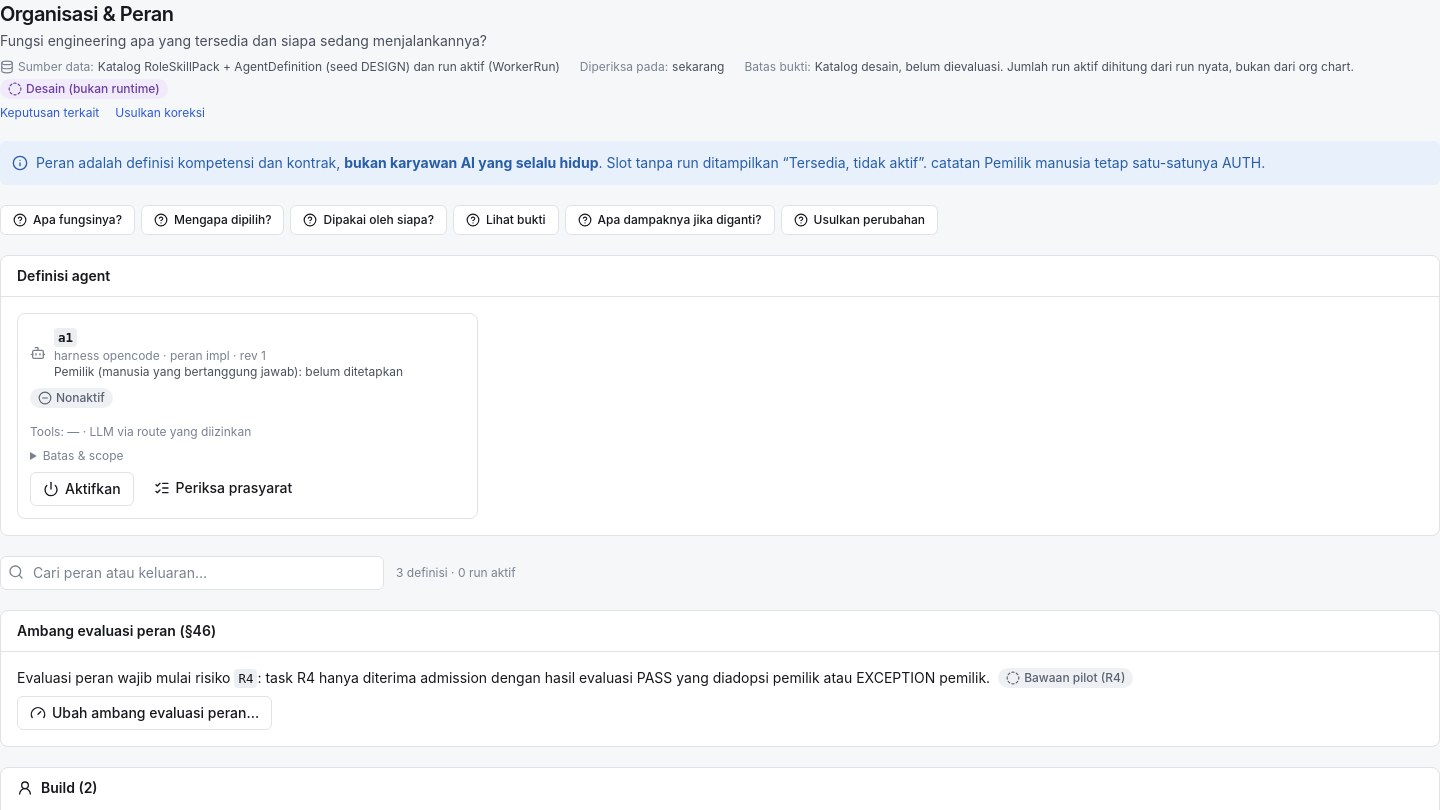
Scenario: Organization page explain buttons (§35 'buka record sumber yang sama') › builds 'Apa fungsinya?' and 'Mengapa dipilih?' from the role records, not fixed copy
The width and height of the screenshot is (1440, 810).
Click the button "Apa fungsinya?" at (68, 220), box 0,205 -> 135,235
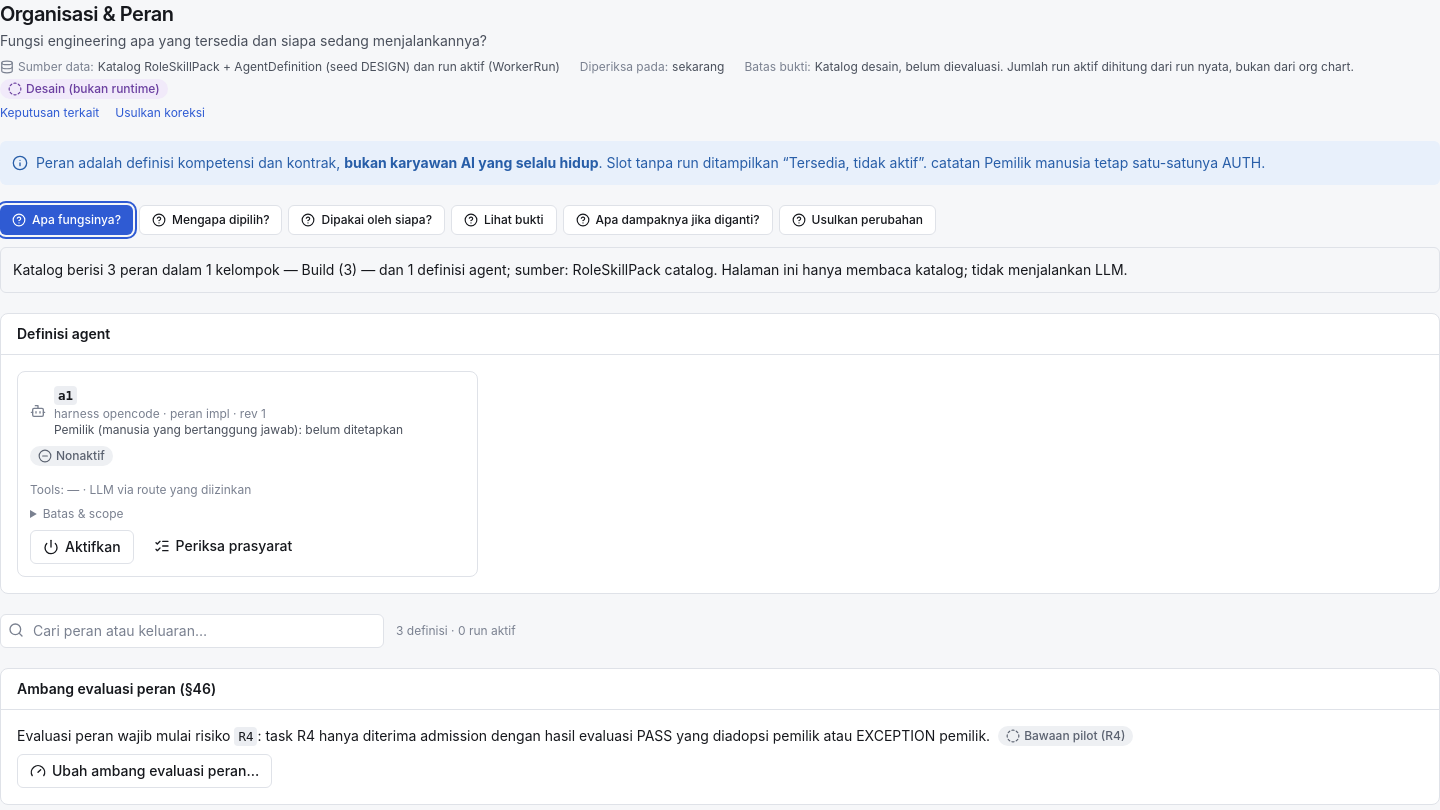
Expected: the text "3 peran dalam 1 kelompok — Build (3) — dan 1 definisi agent" is shown, 13,261 -> 1128,278
Click the button "Mengapa dipilih?" at (211, 220), box 139,205 -> 282,235
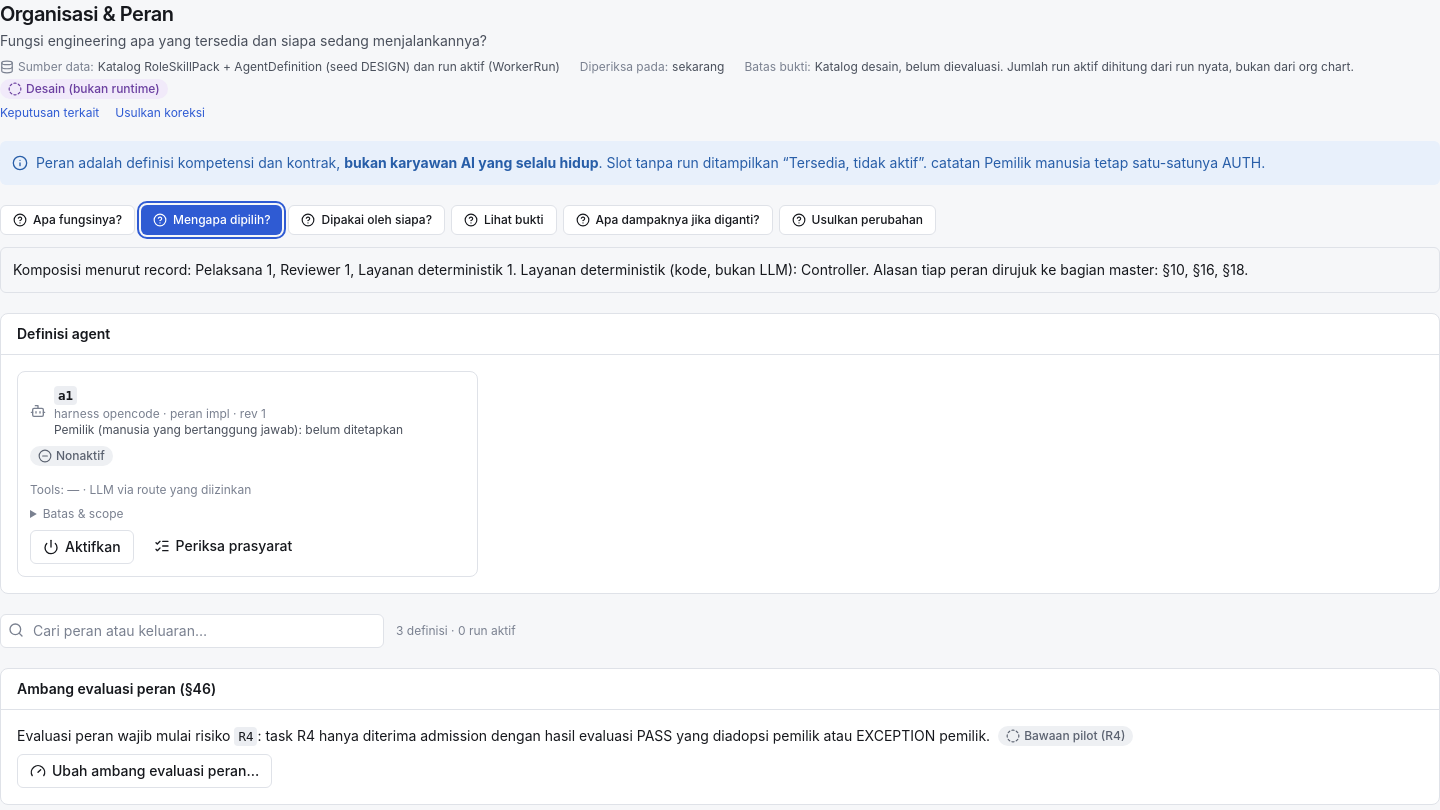
Expected: the text "Komposisi menurut record" shows "Pelaksana 1", 13,261 -> 1248,278
Expected: the text "Komposisi menurut record" shows "Reviewer 1", 13,261 -> 1248,278
Expected: the text "Komposisi menurut record" shows "Layanan deterministik (kode, bukan LLM): Controller", 13,261 -> 1248,278
